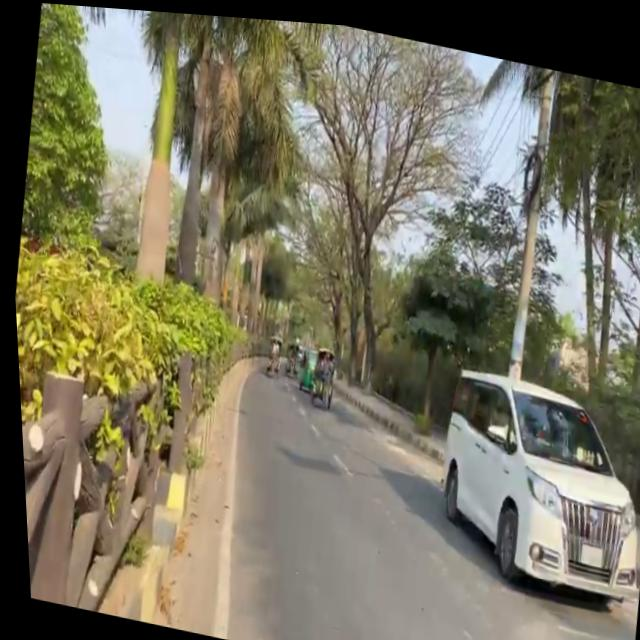Broken-road: (418, 353, 640, 602)
Construction-barrier: (189, 346, 261, 638), (319, 372, 448, 458)
Fallen-tree: (301, 355, 334, 406), (259, 329, 282, 376), (278, 334, 300, 376)
Light-pole: (490, 55, 569, 376)
Pole: (10, 249, 279, 636)
